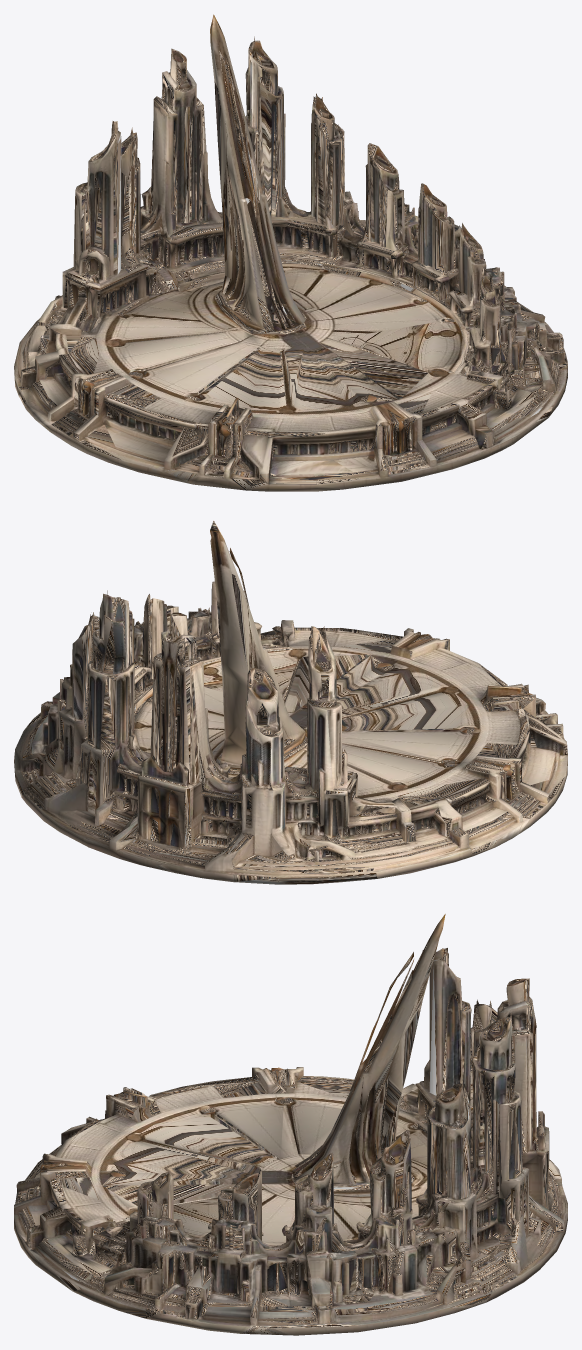
The model's file is Ivory_Spire_Citadel.glb.
3 views of the same model, one above another, from view 1: azimuth 30°, elevation 25°; view 2: azimuth 150°, elevation 25°; view 3: azimuth 270°, elevation 25° (orthographic).
Parts seen in each view (by area): view 1: Ivory_Spire_Citadel; view 2: Ivory_Spire_Citadel; view 3: Ivory_Spire_Citadel.
Boxes of the visible parts, bbox=[...] form: Ivory_Spire_Citadel: bbox=[14, 14, 567, 491]; Ivory_Spire_Citadel: bbox=[14, 521, 567, 884]; Ivory_Spire_Citadel: bbox=[14, 914, 567, 1335].
Size of the model in its own units: 1.9 by 1.16 by 1.9.
1 material, 1 textured.
